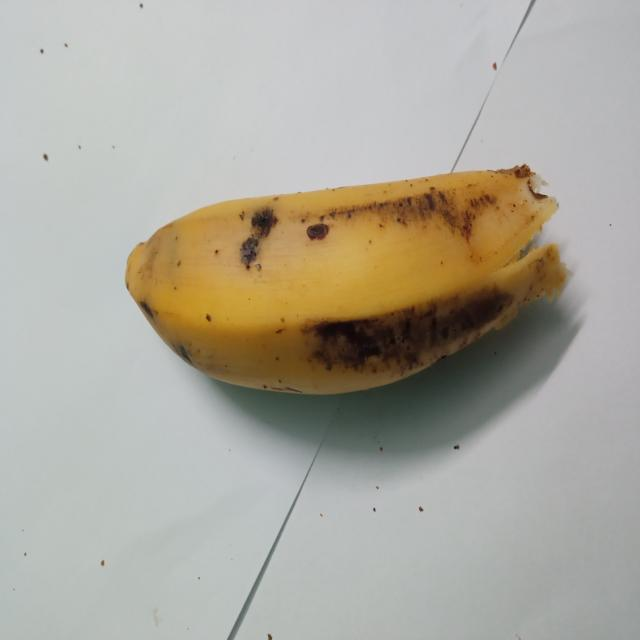fresh_banana: (125, 168, 558, 394)
